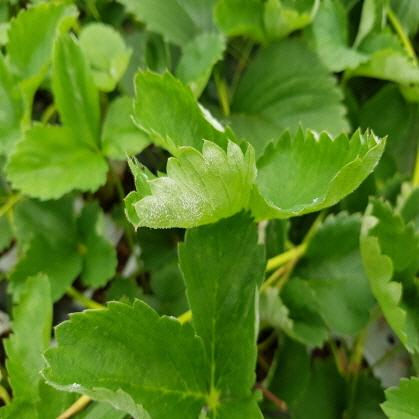Powdery Mildew Leaf: (39, 297, 212, 418), (250, 121, 389, 223), (122, 138, 257, 232), (130, 67, 239, 157)
